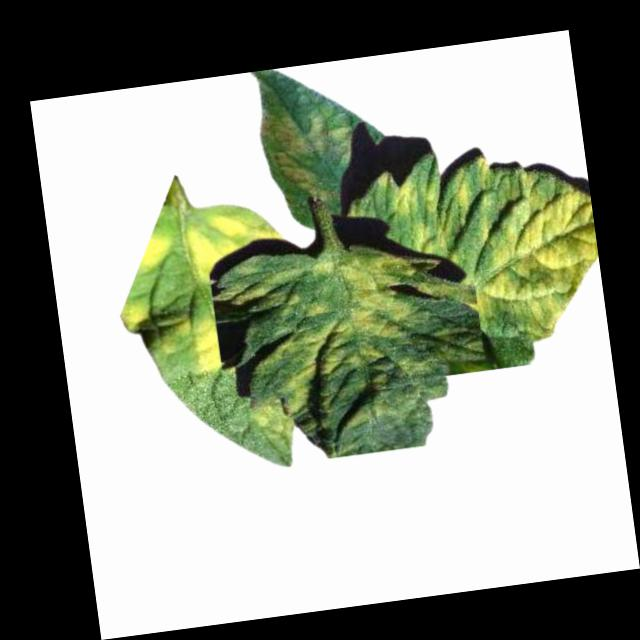Leaf_Mold: (380, 148, 607, 359), (220, 239, 433, 421), (256, 97, 358, 207), (183, 197, 290, 283), (187, 313, 224, 375), (132, 226, 176, 272), (115, 292, 149, 331)
